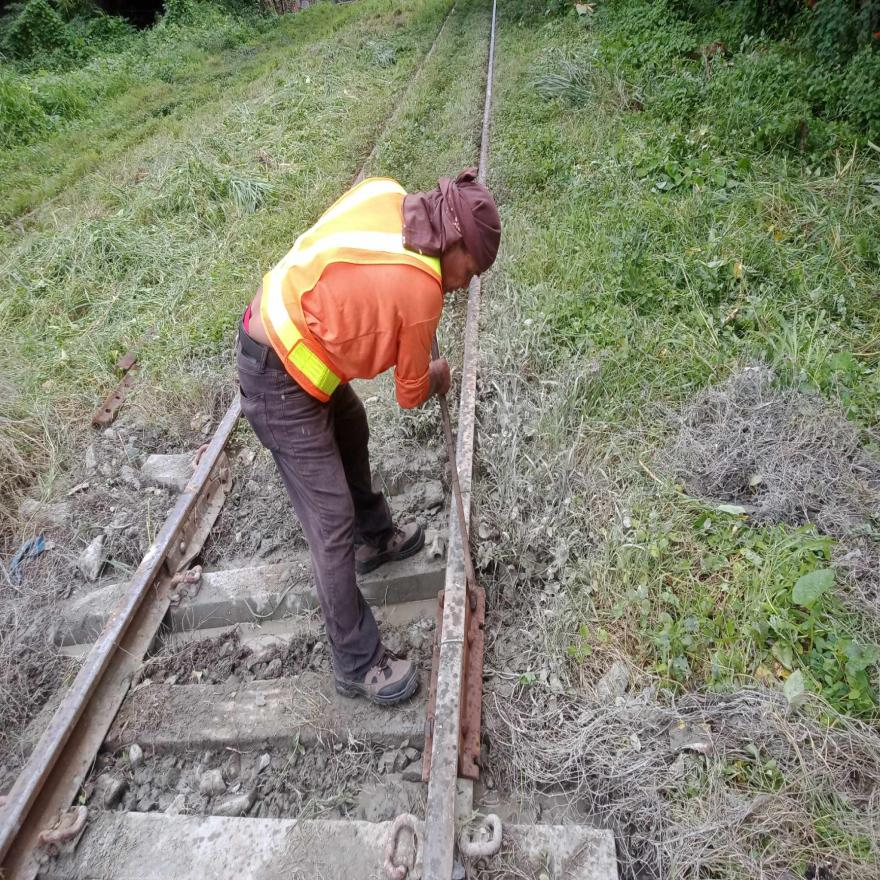railway-gap: (418, 598, 488, 685)
